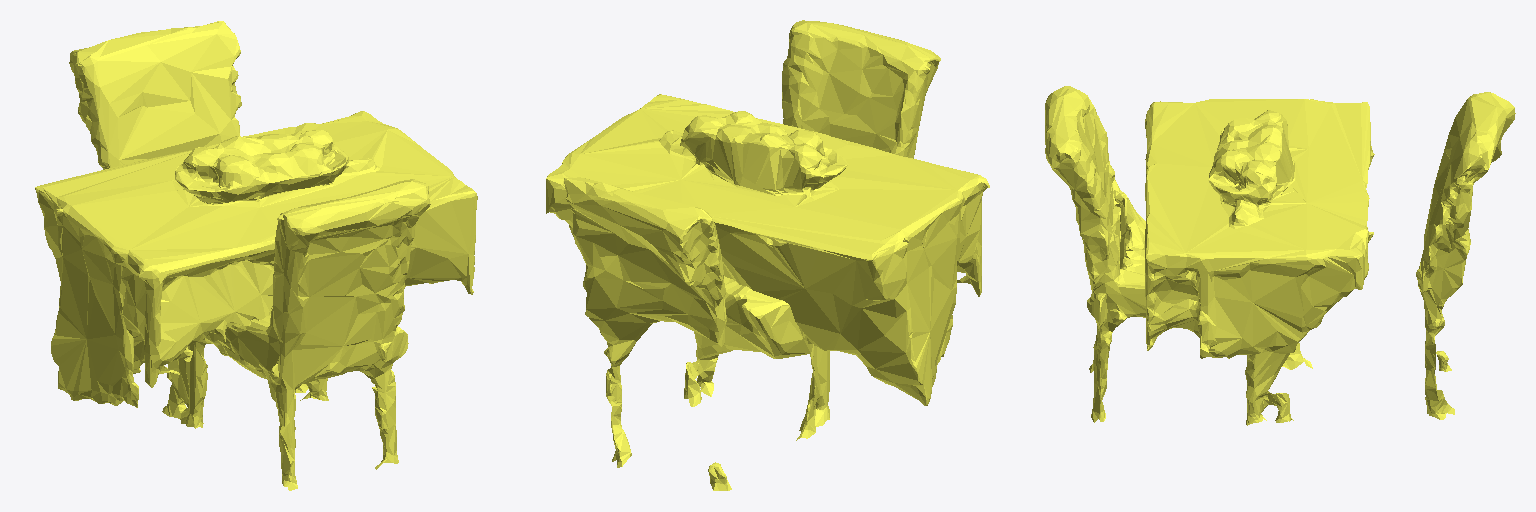
The robot description file, URDF, robot "env.urdf":
<?xml version="0.0" ?>
<robot name="env.urdf">
  <link name="baseLink">
    <contact>
      <lateral_friction value="1.0"/>
      <rolling_friction value="0.0"/>
      <contact_cfm value="0.0"/>
      <contact_erp value="1.0"/>
    </contact>
    <inertial>
      <origin rpy="0 0 0" xyz="0.0 0.02 0.0"/>
       <mass value="0"/>
       <inertia ixx="1" ixy="0" ixz="0" iyy="1" iyz="0" izz="1"/>
    </inertial>
    <visual>
      <origin rpy="0 0 0" xyz="0 0 0"/>
      <geometry>
        <mesh filename="side_table.obj" scale="1 1 1"/>
      </geometry>
       <material name="yellow">
        <color rgba="1 1 0.4 1"/>
      </material>
    </visual>
    <collision>
      <origin rpy="0 0 0" xyz="0 0 0"/>
      <geometry>
	 	<mesh filename="side_table.obj" scale="1 1 1"/>
      </geometry>
    </collision>
  </link>
</robot>

--- Facts derived from the render (not from the file) ---
Views: 3 orthographic renders of the robot side by side, from view 1: azimuth 30°, elevation 25°; view 2: azimuth 150°, elevation 25°; view 3: azimuth 270°, elevation 25°.
Model env.urdf with 1 links and 0 joints (none), rooted at baseLink, posed all joints at 0.
Links seen in each view (by area): view 1: baseLink; view 2: baseLink; view 3: baseLink.
Link boxes in pixels (left/top/right/bottom): baseLink: left=35, top=21, right=477, bottom=490; baseLink: left=546, top=20, right=989, bottom=490; baseLink: left=1045, top=86, right=1515, bottom=425.
Size in the robot's own frame: 1.19 by 1.4 by 0.928 metres.
1 mesh visuals loaded from 1 distinct referenced files (1 OBJ).